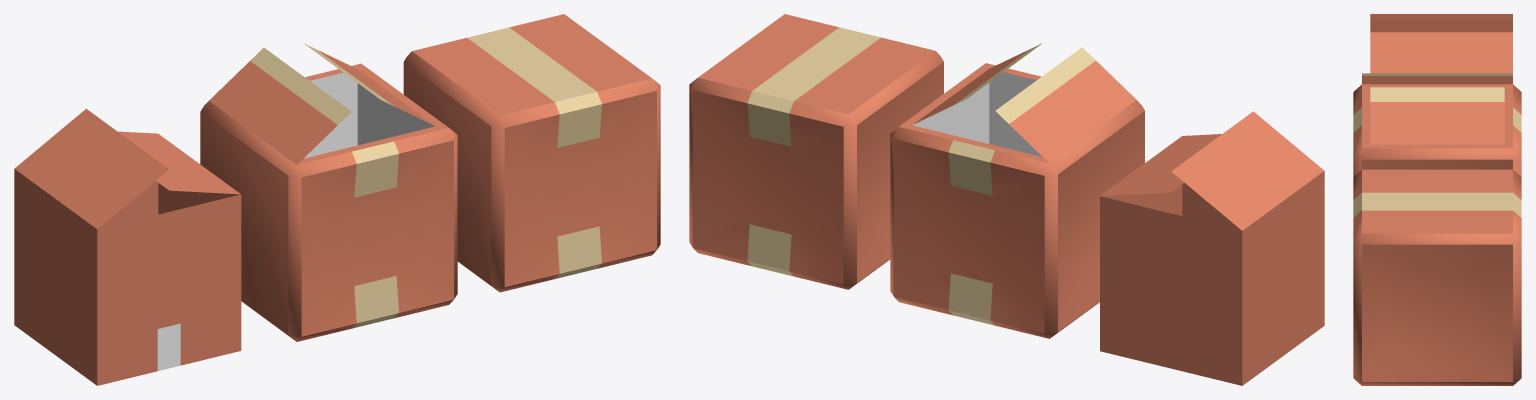
The picture shows the model from 3 angles, left to right: view 1: azimuth 30°, elevation 25°; view 2: azimuth 150°, elevation 25°; view 3: azimuth 270°, elevation 25°; orthographic projection. The views are drawn at different scales.
Visible parts, largest first — view 1: boxOpen, box, cardboardBoxClosed; view 2: boxOpen, box, cardboardBoxClosed; view 3: box, boxOpen, cardboardBoxClosed.
Boxes of the visible parts, box(x1,y1,x2,y2) form: boxOpen: box(200, 43, 457, 341); box: box(403, 14, 660, 292); cardboardBoxClosed: box(14, 108, 241, 385); boxOpen: box(890, 43, 1144, 338); box: box(689, 14, 943, 289); cardboardBoxClosed: box(1100, 111, 1324, 385); box: box(1353, 169, 1521, 385); boxOpen: box(1353, 73, 1521, 176); cardboardBoxClosed: box(1370, 14, 1512, 73).
Bounding box in the file's own units: 0.825 × 0.3063 × 0.25.
